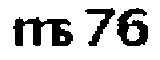6: (116, 5, 151, 50), (54, 17, 76, 50)
7: (81, 5, 114, 52)
m: (12, 16, 57, 47)
